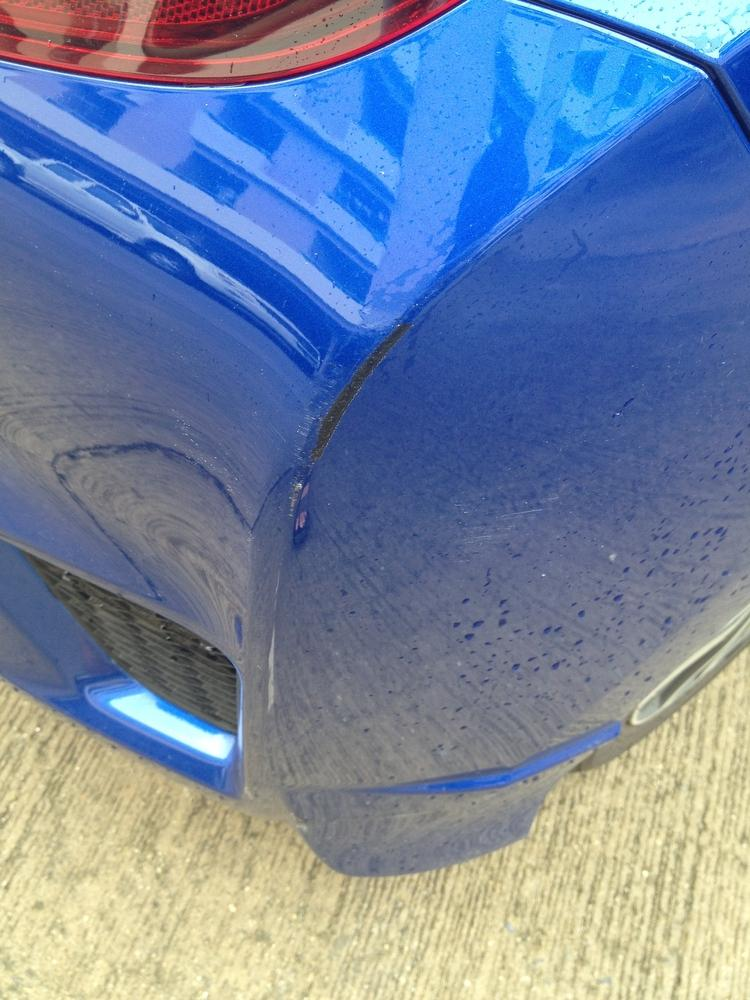scratch: (276, 301, 423, 546)
